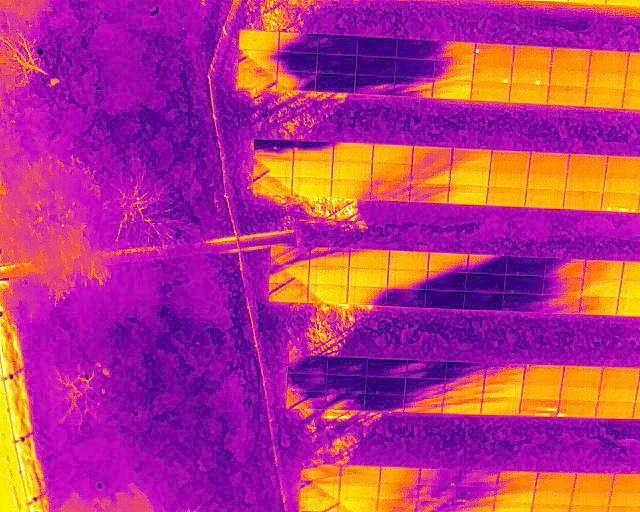Cell: (473, 62, 511, 83), (512, 64, 549, 85), (475, 43, 512, 62), (558, 401, 597, 418)
Cell-Multi: (602, 193, 640, 212), (519, 399, 557, 416)
No-Anomaly: (487, 188, 527, 208), (550, 67, 590, 87), (334, 141, 372, 162), (530, 151, 569, 171), (389, 251, 429, 270), (569, 155, 605, 176), (372, 144, 411, 163), (489, 169, 528, 188), (350, 249, 389, 268), (309, 266, 348, 285), (433, 80, 472, 99), (510, 85, 549, 104), (548, 86, 587, 105), (588, 68, 625, 88), (523, 366, 564, 384), (239, 32, 280, 50), (528, 172, 566, 191), (586, 89, 624, 108), (348, 269, 388, 287), (449, 186, 486, 205), (527, 190, 564, 209), (472, 84, 509, 103), (481, 398, 519, 416), (581, 297, 619, 315), (513, 46, 551, 64), (582, 278, 620, 296), (309, 285, 347, 303), (491, 150, 529, 168), (255, 159, 293, 177), (333, 162, 371, 180), (293, 180, 331, 198), (590, 50, 628, 68), (564, 367, 601, 385), (537, 472, 574, 490), (566, 175, 603, 193), (604, 174, 639, 193), (574, 473, 613, 490), (340, 465, 379, 482), (293, 162, 332, 179), (332, 181, 371, 198), (564, 192, 600, 210), (496, 486, 534, 503), (561, 385, 599, 402), (551, 49, 589, 66), (450, 168, 488, 185), (254, 178, 292, 195), (602, 368, 637, 386), (585, 260, 622, 277), (380, 466, 419, 482), (340, 483, 378, 499), (522, 384, 560, 400), (600, 387, 638, 403), (535, 490, 572, 506), (499, 470, 537, 485), (597, 403, 635, 418), (572, 490, 610, 505), (607, 156, 639, 173)
Shadowing: (271, 245, 310, 267), (372, 164, 411, 185), (238, 69, 278, 89), (452, 148, 490, 169), (435, 59, 473, 80), (294, 142, 333, 162), (411, 165, 450, 185), (288, 354, 326, 374), (327, 356, 367, 375), (395, 39, 435, 58), (317, 35, 357, 54), (412, 147, 452, 166), (544, 258, 584, 277), (428, 271, 466, 291), (277, 53, 317, 72), (327, 375, 366, 394), (406, 378, 445, 397), (357, 37, 396, 56), (270, 284, 309, 303), (254, 140, 293, 159), (311, 246, 350, 265), (388, 269, 427, 288), (388, 288, 426, 307), (371, 182, 409, 201), (468, 255, 506, 274), (357, 56, 395, 75), (446, 362, 486, 380), (367, 359, 407, 377), (347, 287, 387, 305), (279, 34, 319, 52), (239, 50, 279, 68), (317, 55, 357, 73), (436, 41, 475, 59), (301, 465, 340, 483), (287, 375, 326, 393), (366, 377, 405, 395), (430, 253, 469, 271), (271, 267, 310, 285), (396, 59, 435, 77), (316, 73, 355, 91), (356, 76, 395, 94), (505, 276, 543, 294), (407, 360, 445, 378), (467, 274, 505, 292), (409, 184, 447, 202), (506, 257, 544, 275), (278, 71, 316, 89), (484, 382, 523, 399), (544, 278, 583, 295), (426, 291, 464, 308), (465, 291, 503, 308), (486, 365, 524, 382), (445, 382, 483, 399), (395, 78, 433, 95), (443, 399, 483, 415), (379, 483, 419, 499), (420, 468, 460, 484), (287, 393, 327, 409), (300, 483, 339, 499), (365, 395, 404, 411), (404, 397, 443, 413), (420, 484, 459, 500), (327, 394, 365, 410), (504, 294, 543, 309), (460, 470, 498, 485), (543, 295, 581, 310), (459, 486, 496, 500)
